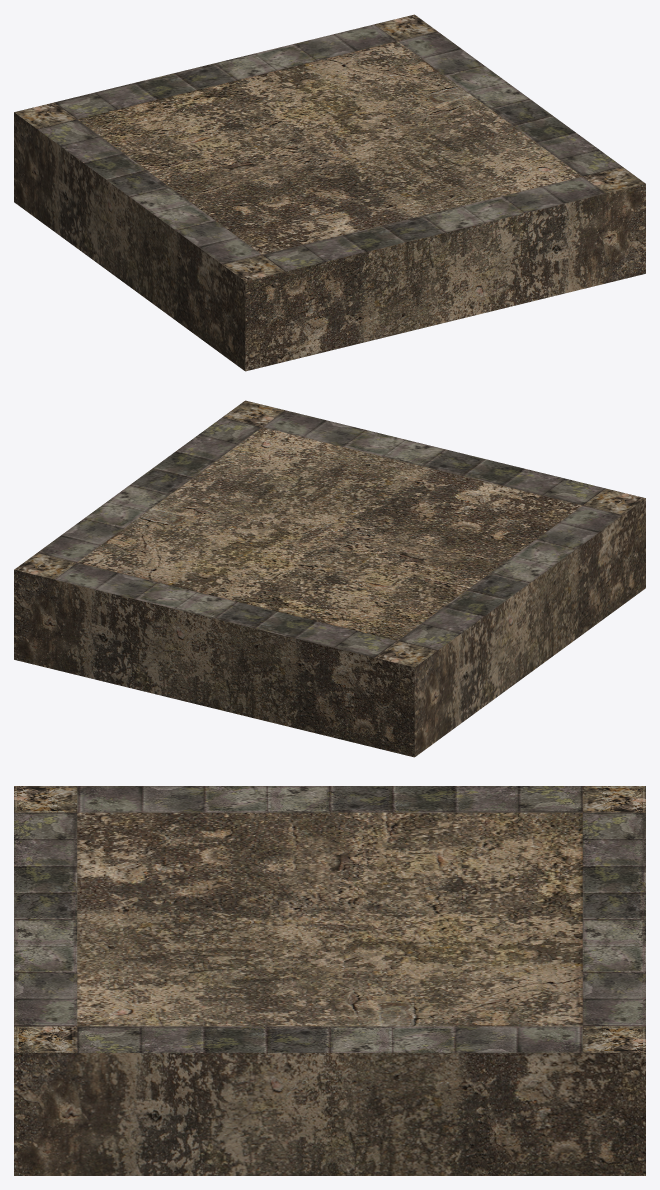
The model's file is materials_5_floor_rectangle_6.fbx.
3 views of the same model, one above another, from view 1: azimuth 30°, elevation 25°; view 2: azimuth 150°, elevation 25°; view 3: azimuth 270°, elevation 25° (orthographic). The views are drawn at different scales.
Visible parts, largest first — view 1: materials_5_floor_rectangle_6; view 2: materials_5_floor_rectangle_6; view 3: materials_5_floor_rectangle_6.
Boxes of the visible parts, <box> form: materials_5_floor_rectangle_6: <box>14,14,645,371</box>; materials_5_floor_rectangle_6: <box>14,400,645,757</box>; materials_5_floor_rectangle_6: <box>14,786,645,1175</box>.
Bounding box in the file's own units: 200 × 42.89 × 200.
